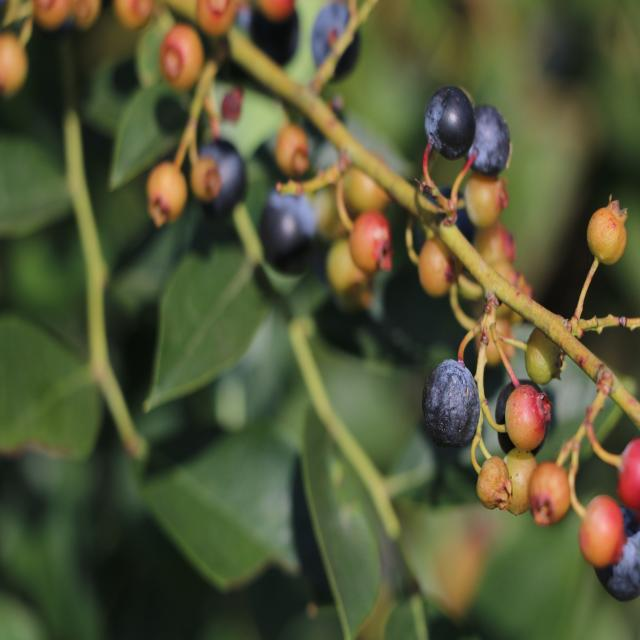blueberry: (422, 358, 480, 450), (593, 502, 640, 600), (494, 377, 548, 462), (258, 186, 312, 268), (195, 137, 248, 219), (424, 84, 476, 162), (311, 8, 363, 83), (463, 105, 512, 183)
blueberry-halfripe: (157, 22, 210, 94), (581, 492, 622, 573), (350, 208, 395, 270), (460, 170, 505, 230), (416, 234, 458, 298), (588, 202, 629, 262), (507, 390, 548, 448), (534, 463, 570, 522), (616, 438, 640, 506), (276, 125, 310, 169)
blueberry-unripe: (146, 162, 192, 225), (524, 325, 562, 387)
